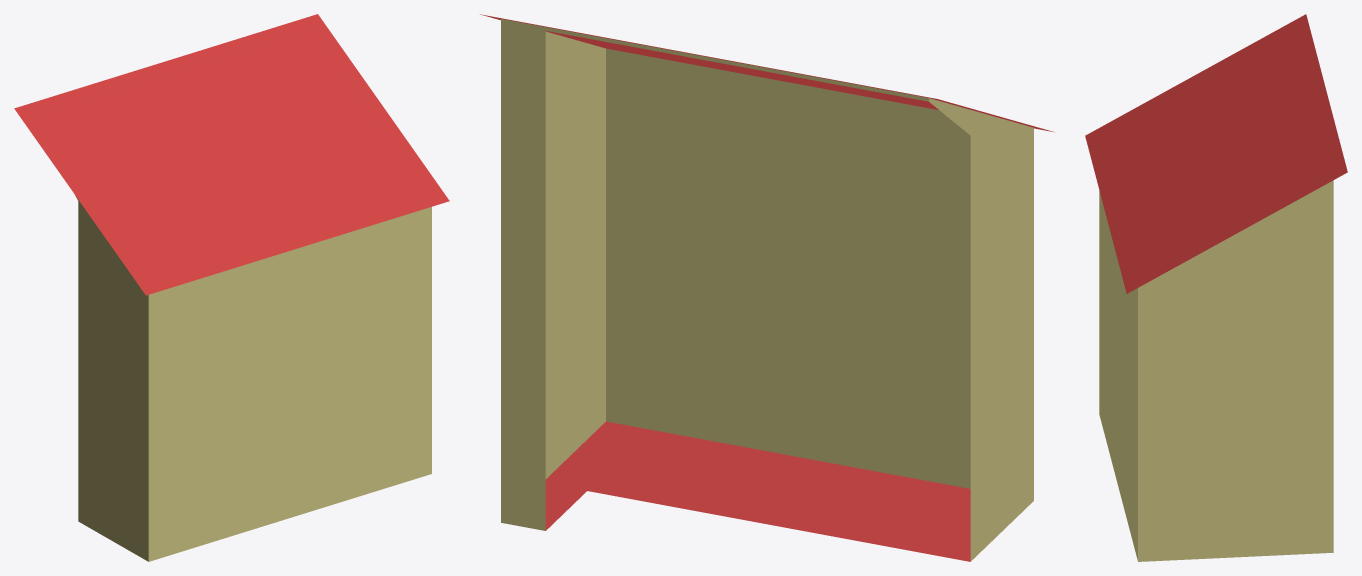
3 views of the same model, side by side, from view 1: azimuth 30°, elevation 25°; view 2: azimuth 150°, elevation 25°; view 3: azimuth 270°, elevation 25° (orthographic). The views are drawn at different scales.
Bounding box in the file's own units: 7.75 × 5.1 × 8.25.
